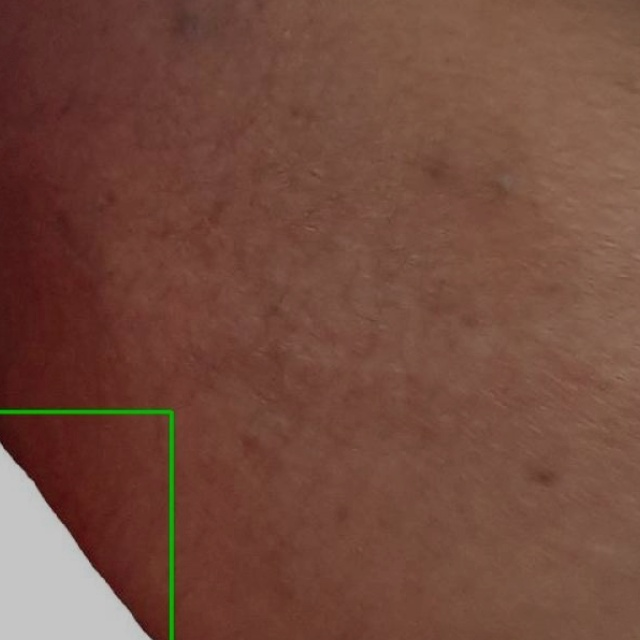Contact Dermatitis: (0, 411, 171, 639)
